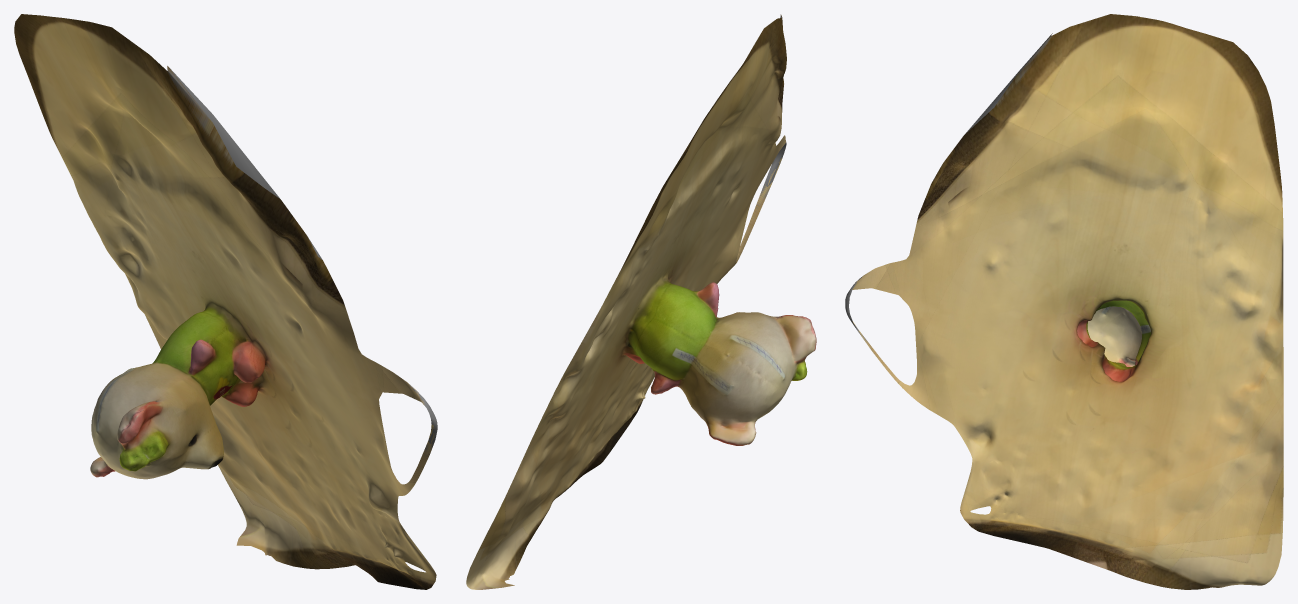
Rendered from doll1.fbx.
3 renders of one model, left to right at view 1: azimuth 30°, elevation 25°; view 2: azimuth 150°, elevation 25°; view 3: azimuth 270°, elevation 25°, orthographic. The views are drawn at different scales.
Visible parts, largest first — view 1: default; view 2: default; view 3: default.
Boxes of the visible parts, box(x1,y1,x2,y2) form: default: box(14, 14, 437, 589); default: box(466, 14, 816, 589); default: box(845, 14, 1283, 589).
Size of the model in its own units: 46.56 by 103 by 83.25.
